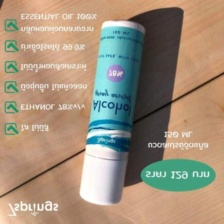aerosol_cans: (72, 16, 150, 211)
